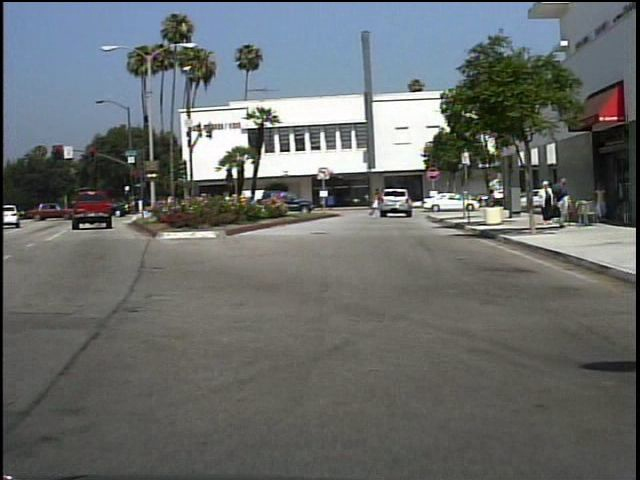person: (554, 173, 574, 231), (539, 178, 557, 225), (592, 178, 609, 224), (482, 181, 505, 214), (371, 188, 383, 216)
